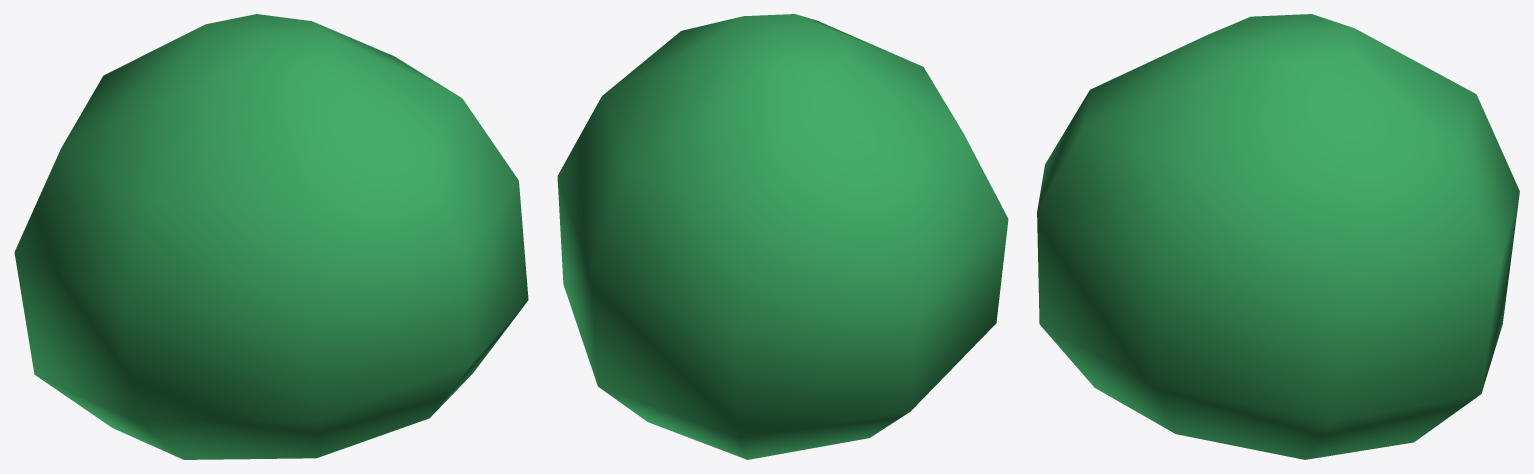
File: Tree_Top_B_01_LOD2.gltf
The picture shows the model from 3 angles, left to right: view 1: azimuth 30°, elevation 25°; view 2: azimuth 150°, elevation 25°; view 3: azimuth 270°, elevation 25°; orthographic projection. The views are drawn at different scales.
Parts seen in each view (by area): view 1: Tree_Top_B_01_LOD2_Cylinder.680; view 2: Tree_Top_B_01_LOD2_Cylinder.680; view 3: Tree_Top_B_01_LOD2_Cylinder.680.
Boxes of the visible parts, x1,y1,x2,y2 form: Tree_Top_B_01_LOD2_Cylinder.680: (14, 14, 528, 459); Tree_Top_B_01_LOD2_Cylinder.680: (557, 14, 1008, 459); Tree_Top_B_01_LOD2_Cylinder.680: (1037, 14, 1519, 459).
Size of the model in its own units: 5.18 by 4.84 by 5.42.
Materials: 1 (1 with a texture image).
